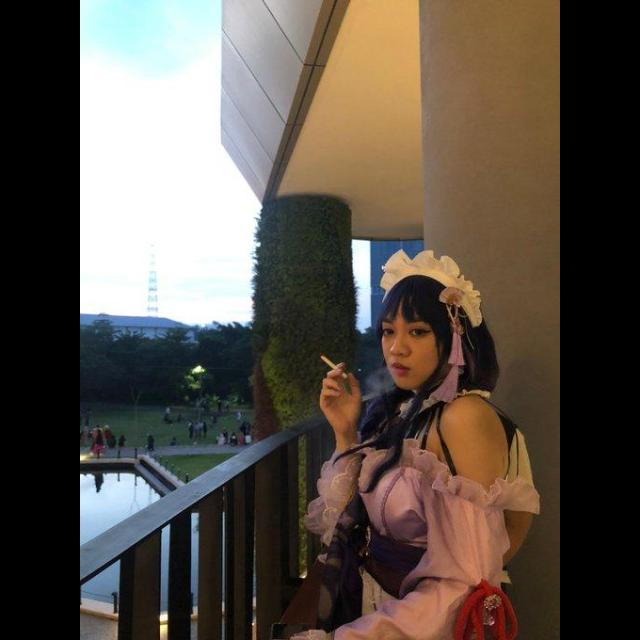rokok: (319, 354, 349, 381)
